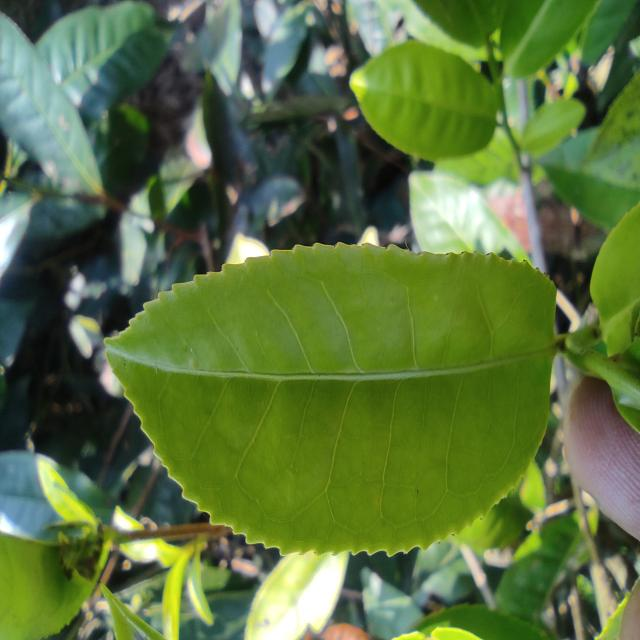Category C(4-7 days): (89, 225, 569, 569)
